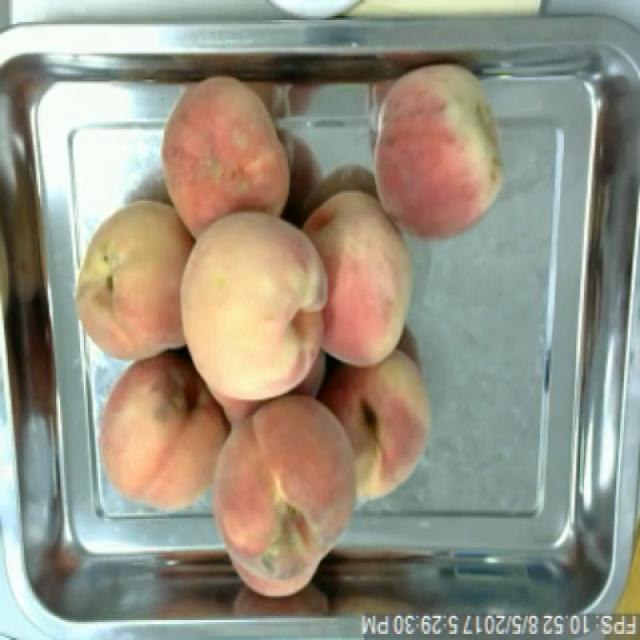Fruit: (194, 386, 378, 610), (168, 201, 334, 413), (362, 55, 512, 248), (86, 342, 236, 525), (58, 192, 200, 372), (151, 78, 301, 245), (302, 183, 422, 374), (306, 340, 436, 511)
